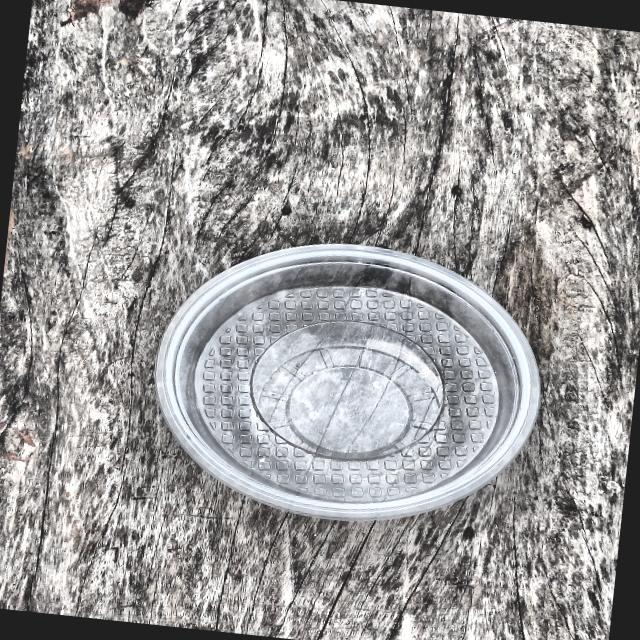plastic container: (117, 204, 562, 549)
